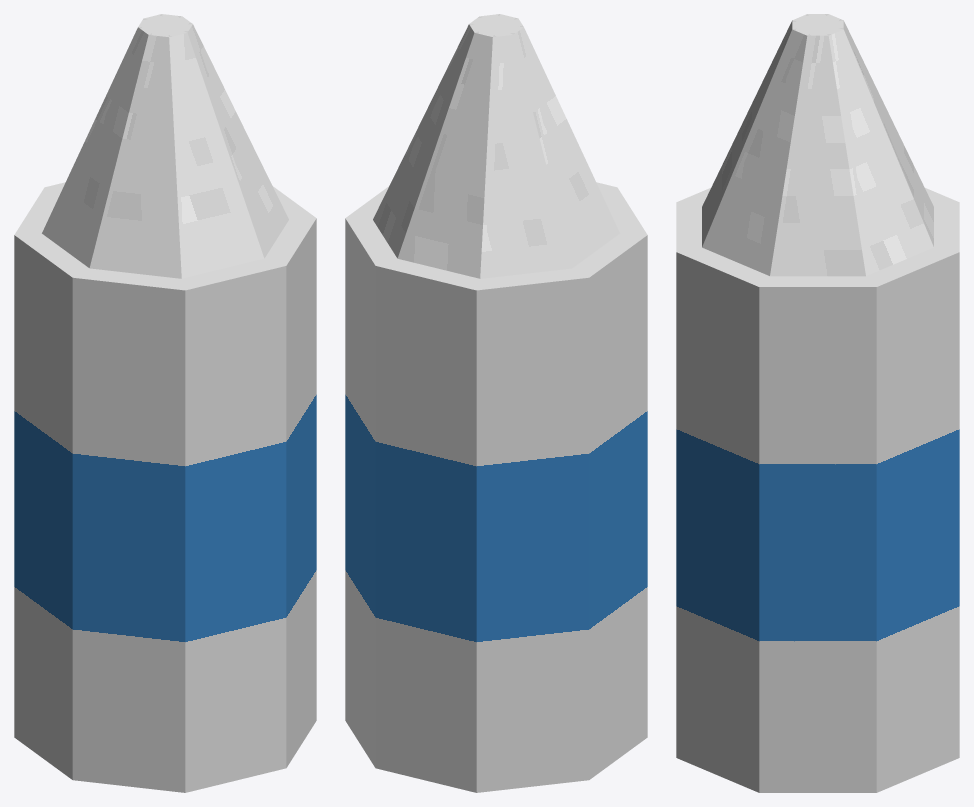
File: eyedrops.glb
The picture shows the model from 3 angles, left to right: view 1: azimuth 30°, elevation 25°; view 2: azimuth 150°, elevation 25°; view 3: azimuth 270°, elevation 25°; orthographic projection.
Visible parts, largest first — view 1: block_body, block_tip; view 2: block_body, block_tip; view 3: block_body, block_tip.
Part boxes in pixels (box(x1,y1,x2,y2)): block_body: box(14, 182, 316, 792); block_tip: box(42, 14, 288, 278); block_body: box(345, 182, 647, 792); block_tip: box(373, 14, 619, 278); block_body: box(676, 188, 959, 792); block_tip: box(702, 14, 933, 276).
Size of the model in its own units: 0.0203 by 0.056 by 0.0203.
Materials: 1 (1 with a texture image).
